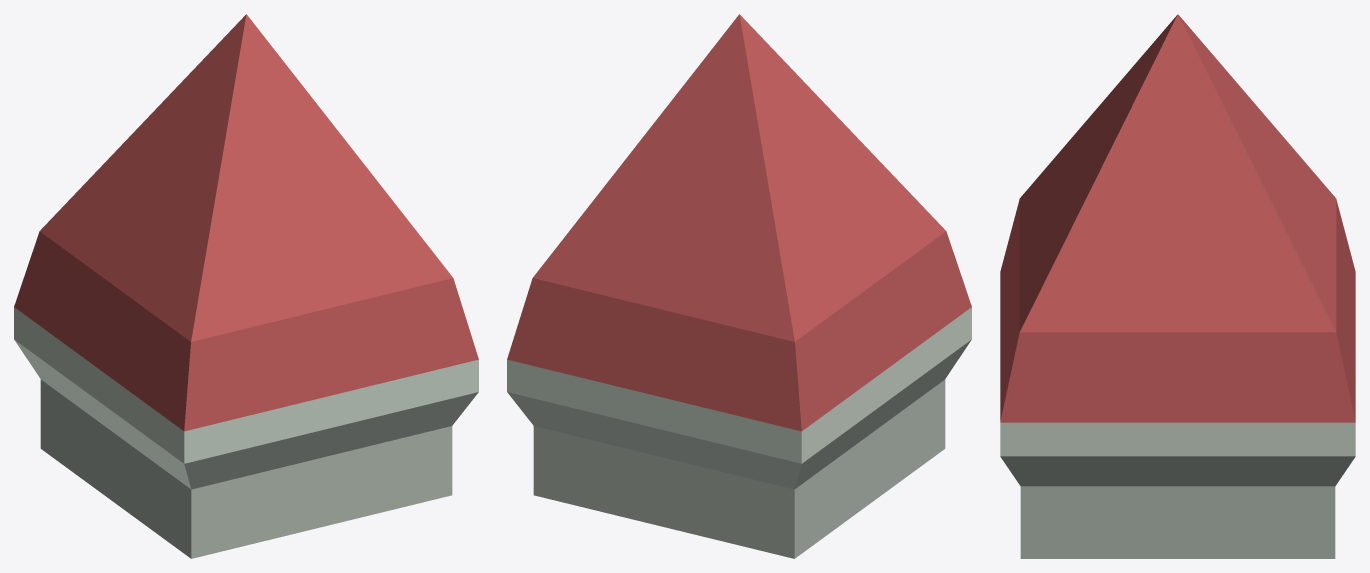
File: towerDefense_054.obj
The picture shows the model from 3 angles, left to right: view 1: azimuth 30°, elevation 25°; view 2: azimuth 150°, elevation 25°; view 3: azimuth 270°, elevation 25°; orthographic projection. The views are drawn at different scales.
Parts seen in each view (by area): view 1: Mesh1 Group1 Model; view 2: Mesh1 Group1 Model; view 3: Mesh1 Group1 Model.
Boxes of the visible parts, <box> form: Mesh1 Group1 Model: <box>14,14,478,558</box>; Mesh1 Group1 Model: <box>507,14,971,558</box>; Mesh1 Group1 Model: <box>1000,14,1355,558</box>.
Size of the model in its own units: 0.6668 by 0.99 by 0.6668.
